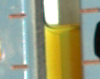border: (8, 63, 31, 71), (79, 58, 100, 66), (77, 7, 100, 14), (6, 12, 28, 19)
liquidlevel: (44, 19, 81, 36)
